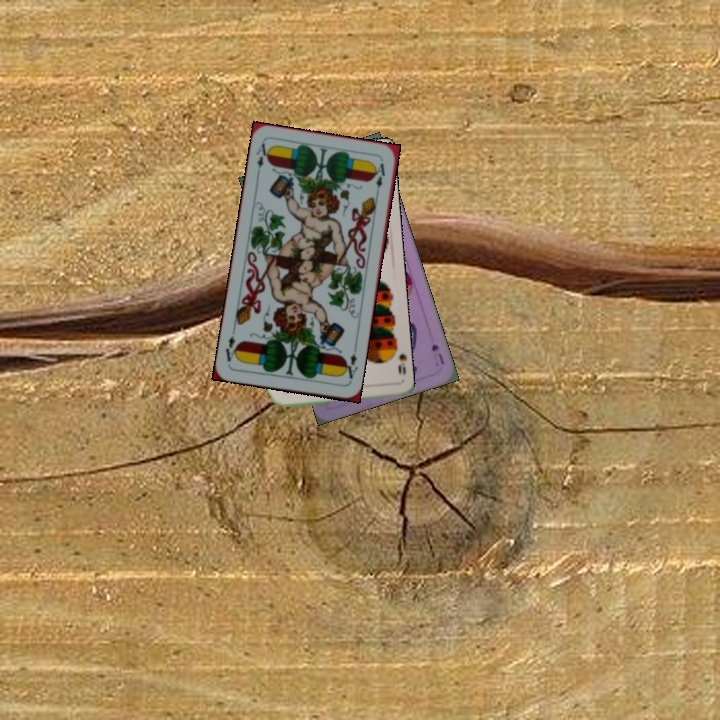EA: (252, 139, 273, 179), (339, 349, 360, 385)
S9: (388, 342, 404, 376)
SU: (427, 340, 447, 367)
